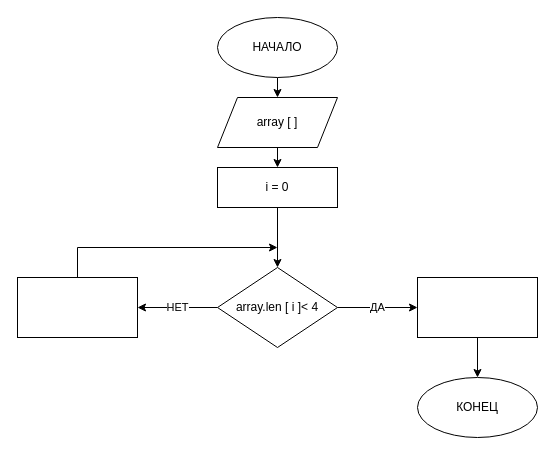
This 555x455 diagram has some shape labels left out. Here are the shapes that lost their labels. From the top down, the centre of each, then its label:
At point (77, 307): "i = i +1".
At point (477, 307): "array [i]".
